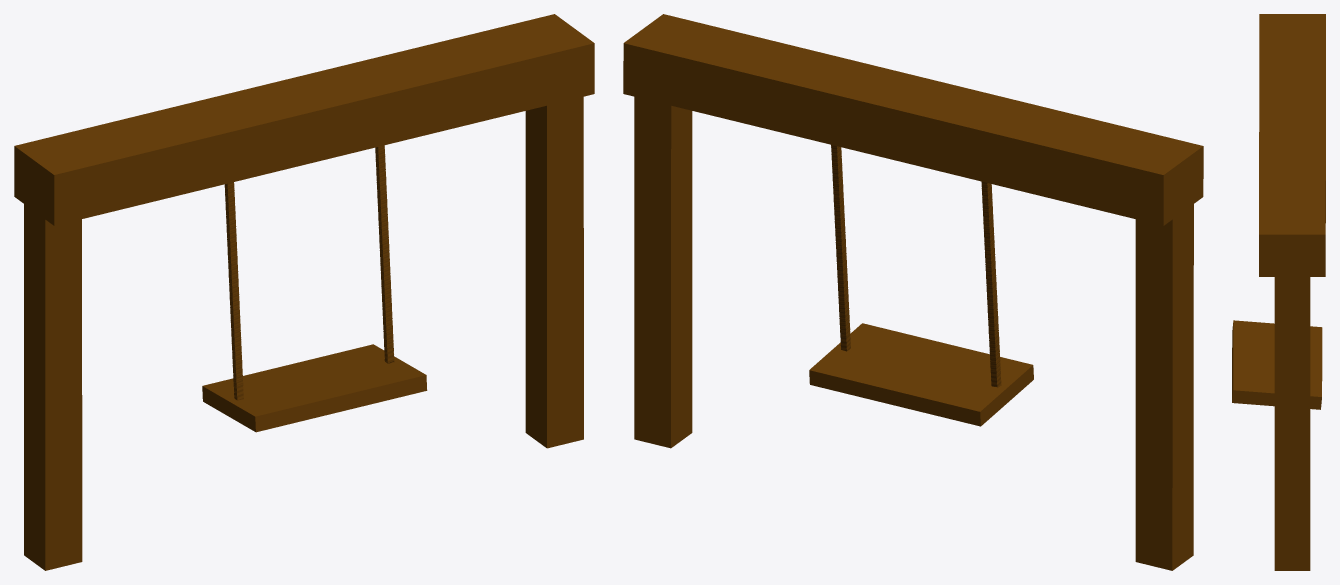
The model's file is swingset.fbx.
3 renders of one model, left to right at view 1: azimuth 30°, elevation 25°; view 2: azimuth 150°, elevation 25°; view 3: azimuth 270°, elevation 25°, orthographic. The views are drawn at different scales.
Visible parts, largest first — view 1: Swingset, Swingset.001; view 2: Swingset, Swingset.001; view 3: Swingset, Swingset.001.
Part boxes in pixels (left/top/right/bottom): Swingset: left=14, top=14, right=594, bottom=570; Swingset.001: left=202, top=145, right=427, bottom=432; Swingset: left=623, top=14, right=1203, bottom=570; Swingset.001: left=809, top=145, right=1033, bottom=426; Swingset: left=1259, top=14, right=1325, bottom=570; Swingset.001: left=1232, top=320, right=1322, bottom=409.
Bounding box in the file's own units: 312 × 222 × 56.05.
